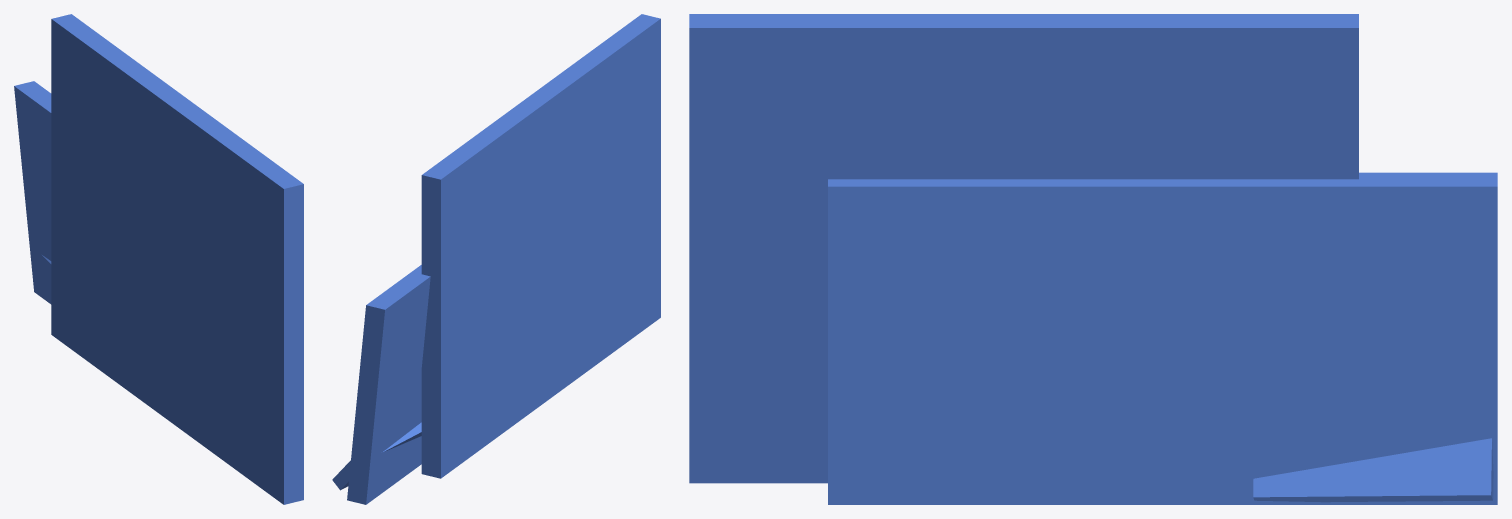
Rendered from WallBand_Straight_Broken_Collision.fbx.
The picture shows the model from 3 angles, left to right: view 1: azimuth 30°, elevation 25°; view 2: azimuth 150°, elevation 25°; view 3: azimuth 270°, elevation 25°; orthographic projection. The views are drawn at different scales.
Parts seen in each view (by area): view 1: WallBand_Straight_Broken_Collision; view 2: WallBand_Straight_Broken_Collision; view 3: WallBand_Straight_Broken_Collision.
Boxes of the visible parts, x1,y1,x2,y2 form: WallBand_Straight_Broken_Collision: (14,14,303,504); WallBand_Straight_Broken_Collision: (332,14,660,504); WallBand_Straight_Broken_Collision: (689,14,1497,504).
Bounding box in the file's own units: 68.53 × 300 × 483.
